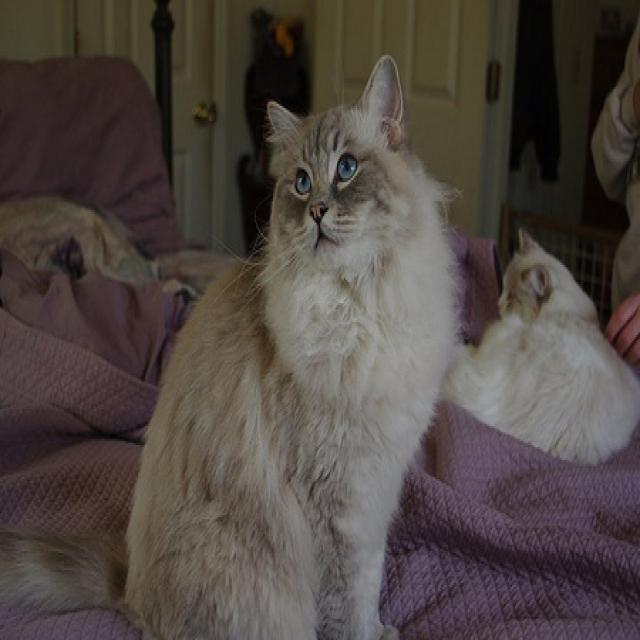Ragdoll: (0, 51, 462, 640), (446, 212, 640, 472)
